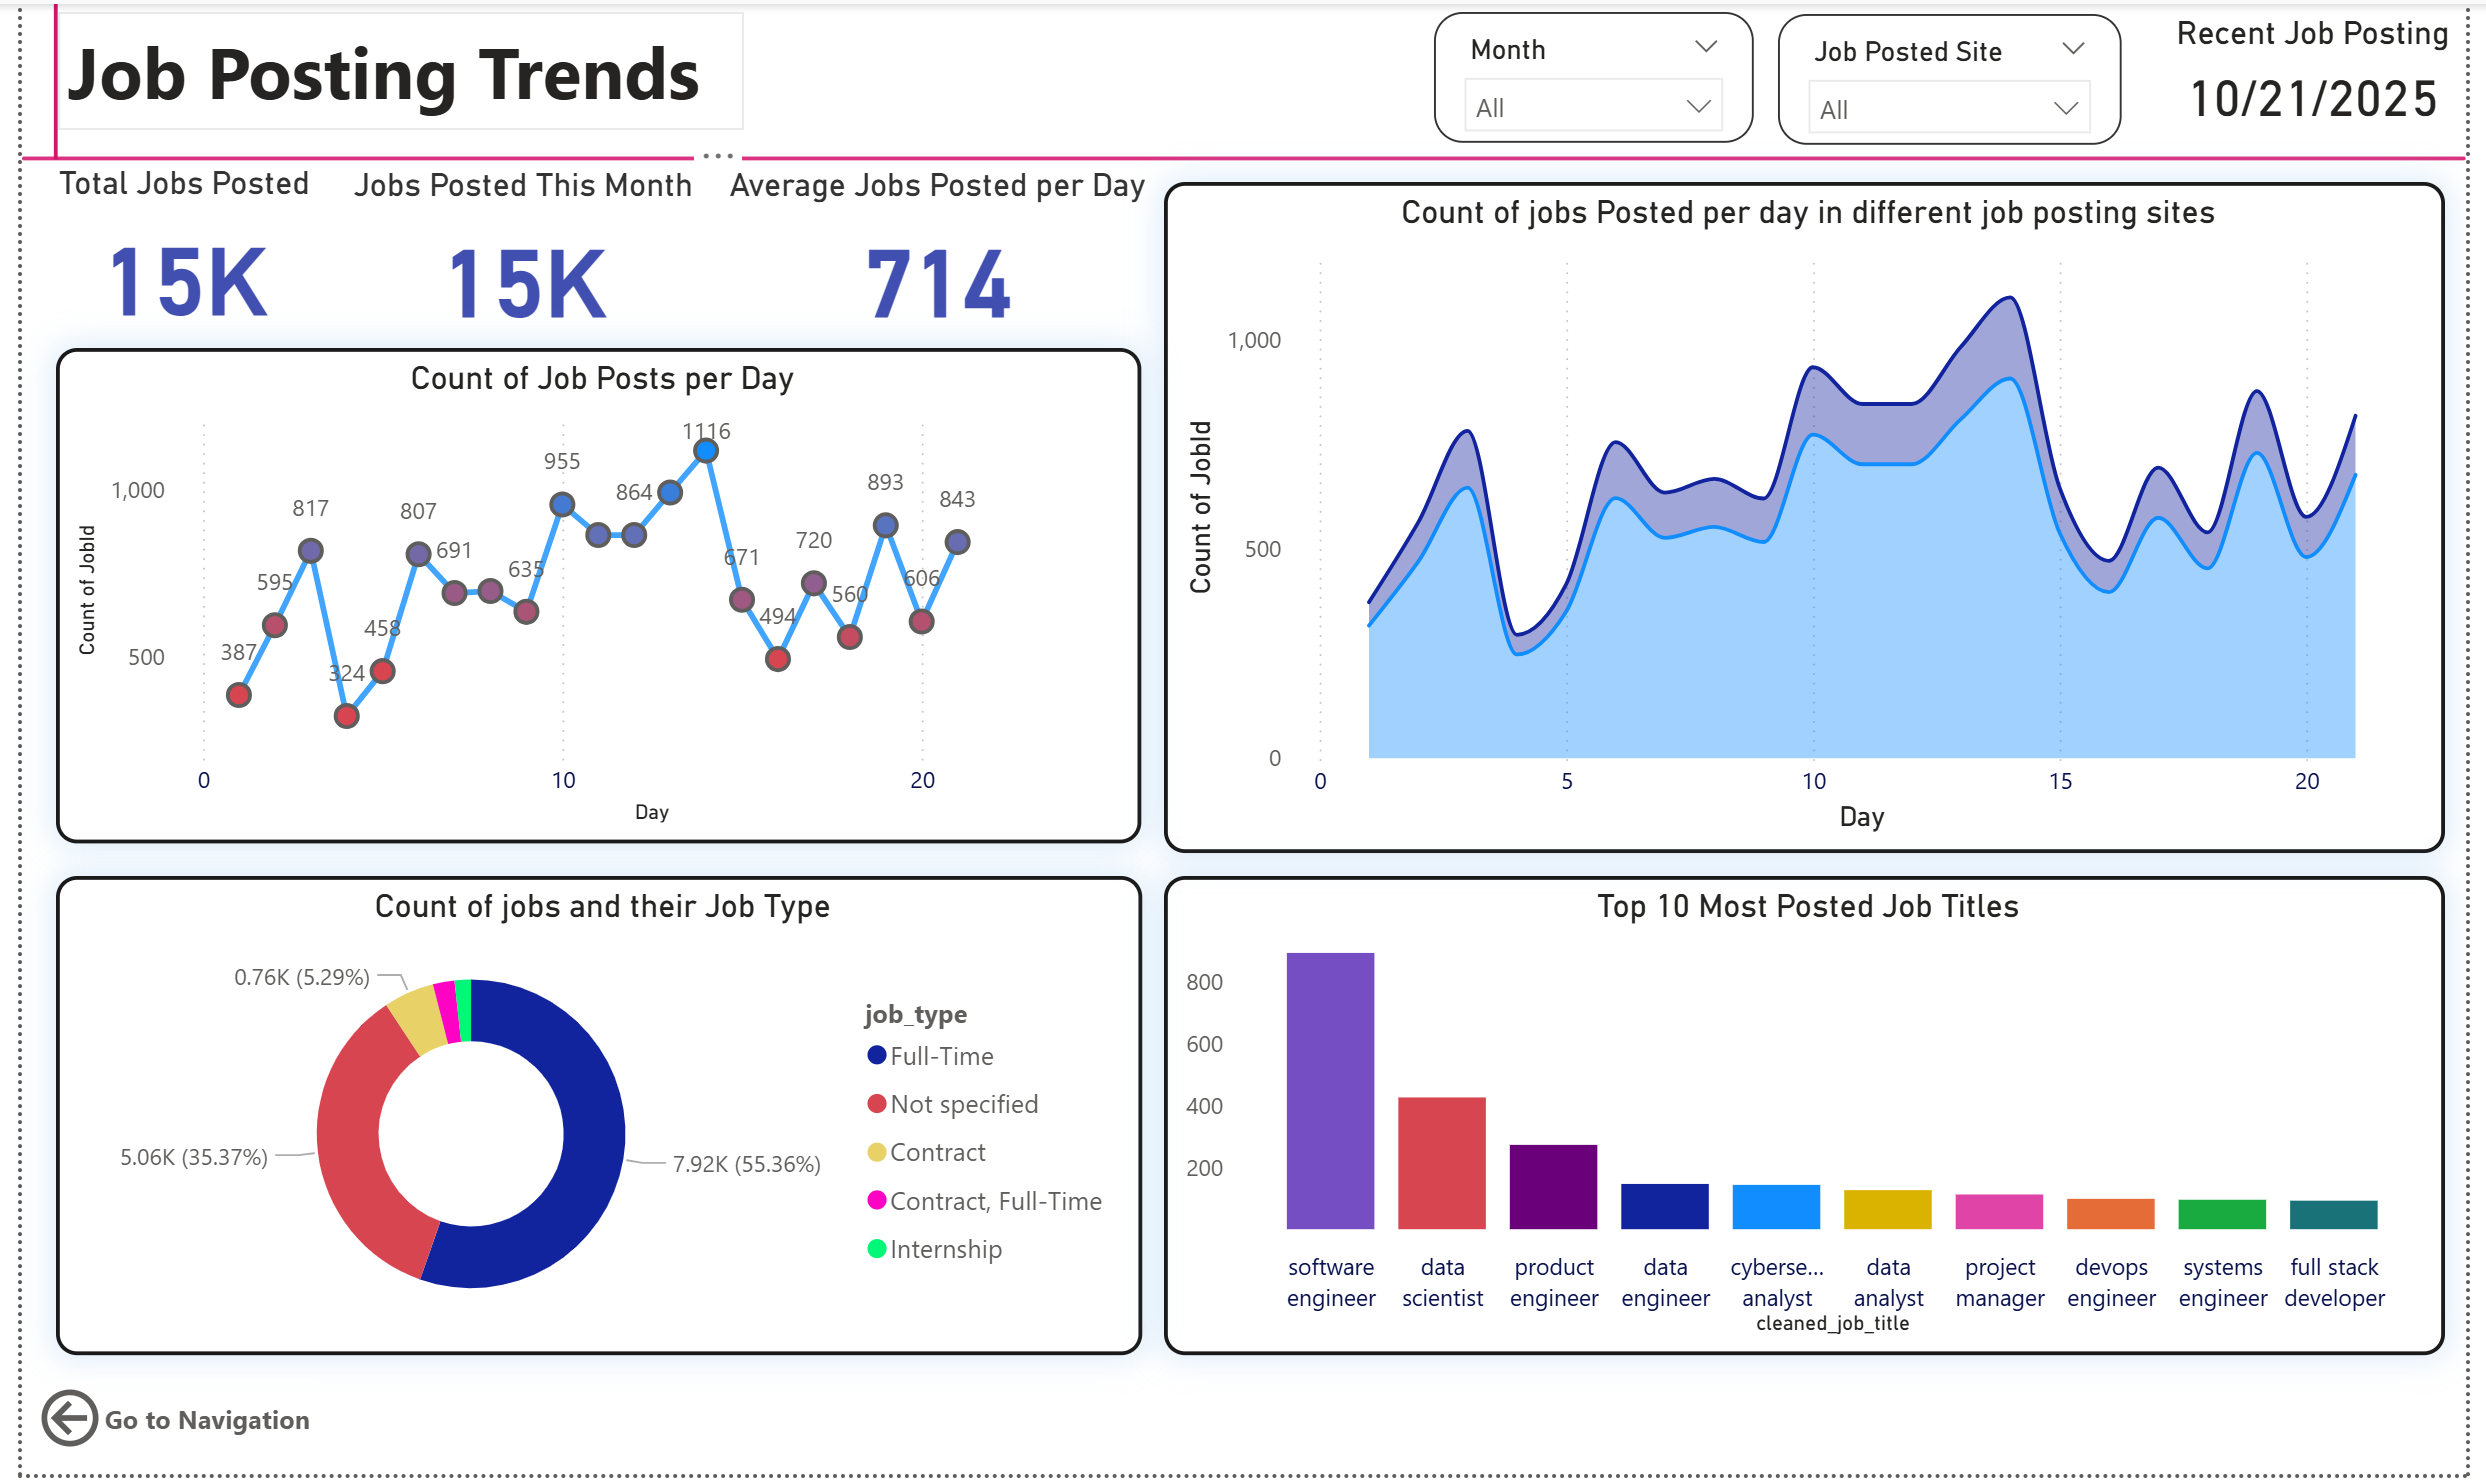

The page's visual inventory and layout, read from the dashboard file:
{"tool":"powerbi","page":{"name":"Job Posting Trends","canvas":[1280,770],"ordinal":4},"visuals":[{"type":"shape","box":[0,70,1280,21.4],"z":0},{"type":"textbox","box":[18.6,4.7,359.6,61.7],"z":2000},{"type":"shape","box":[3.5,0,29.1,81.5],"z":3000},{"type":"card","title":"Jobs Posted This Month","fields":{"Values":["AllMeasures.Jobs this month"]},"box":[165.8,85.2,194.2,94.7],"z":4000},{"type":"card","title":"Recent Job Posting","fields":{"Values":["job_data.Recent job date"]},"box":[1120.1,4.9,160.2,66],"z":5000},{"type":"slicer","fields":{"Values":["job_data.job_posted_site"]},"box":[919.6,4.9,179.8,68.5],"z":6000},{"type":"slicer","fields":{"Values":["job_data.job_posted_date.Variation.Date Hierarchy.Month","job_data.job_posted_date.Variation.Date Hierarchy.Day"]},"box":[740.1,4.7,167.6,68.7],"z":7000},{"type":"card","title":"Average Jobs Posted per Day","fields":{"Values":["AllMeasures.Average Jobs per Day"]},"box":[359.9,85.2,238.4,94.7],"z":8000},{"type":"lineChart","title":"Count of Job Posts per Day","fields":{"Category":["job_data.job_posted_date.Variation.Date Hierarchy.Day"],"Y":["CountNonNull(job_data.JobId)"]},"box":[17.9,179.9,568.6,259.6],"z":9000},{"type":"card","title":"Total Jobs Posted","fields":{"Values":["job_data.Total jobs"]},"box":[4.7,83.7,159.4,96.3],"z":10000},{"type":"stackedAreaChart","title":"Count of jobs Posted per day in different job posting sites","fields":{"Category":["job_data.job_posted_date.Variation.Date Hierarchy.Day"],"Y":["CountNonNull(job_data.JobId)"],"Series":["job_data.job_posted_site"]},"box":[598.3,93.3,671,351.3],"z":11000},{"type":"donutChart","title":"Count of jobs and their Job Type","fields":{"Category":["job_data.job_type"],"Y":["CountNonNull(job_data.JobId)"]},"box":[18.3,456.4,568.9,251.1],"z":12000},{"type":"columnChart","title":"Top 10 Most Posted Job Titles","fields":{"Category":["job_data.cleaned_job_title"],"Y":["CountNonNull(job_data.JobId)"],"Series":["job_data.job_title"]},"box":[598.3,456.2,670.9,251],"z":13000},{"type":"actionButton","box":[5.5,721,149.7,39.8],"z":14000}]}

Visuals, with their boxes in screenshot pixels (x1, y1, x2, y2), scaled from the page's 1280x770 canvas onto the 2486x1480 screenshot:
shape: left=0, top=135, right=2485, bottom=176
textbox: left=36, top=9, right=735, bottom=128
shape: left=7, top=0, right=63, bottom=157
"Jobs Posted This Month" card: left=322, top=164, right=699, bottom=346
"Recent Job Posting" card: left=2175, top=9, right=2485, bottom=136
slicer - job_data.job_posted_site: left=1786, top=9, right=2135, bottom=141
slicer - job_data.job_posted_date.Variation.Date Hierarchy.Month x job_data.job_posted_date.Variation.Date Hierarchy.Day: left=1437, top=9, right=1763, bottom=141
"Average Jobs Posted per Day" card: left=699, top=164, right=1162, bottom=346
"Count of Job Posts per Day" lineChart: left=35, top=346, right=1139, bottom=845
"Total Jobs Posted" card: left=9, top=161, right=319, bottom=346
"Count of jobs Posted per day in different job posting sites" stackedAreaChart: left=1162, top=179, right=2465, bottom=855
"Count of jobs and their Job Type" donutChart: left=36, top=877, right=1140, bottom=1360
"Top 10 Most Posted Job Titles" columnChart: left=1162, top=877, right=2465, bottom=1359
actionButton: left=11, top=1386, right=301, bottom=1462
